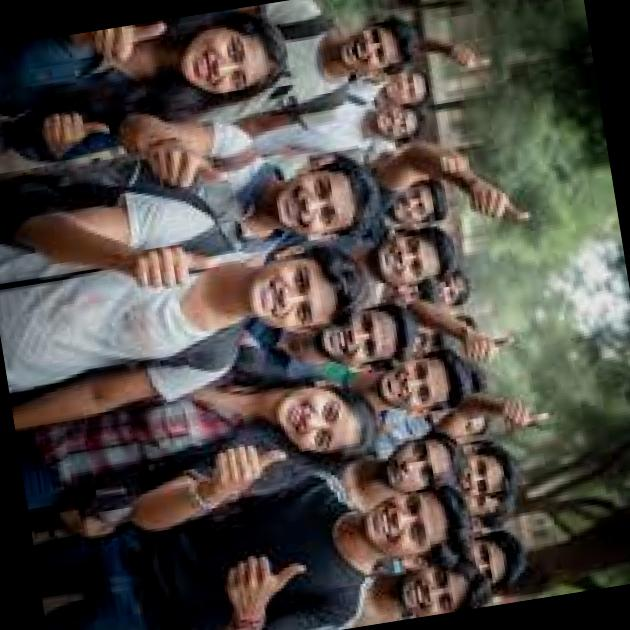there is a person: (36, 361, 356, 541), (0, 228, 337, 394), (5, 16, 306, 193), (162, 486, 485, 630), (345, 322, 466, 440), (345, 217, 446, 318)
